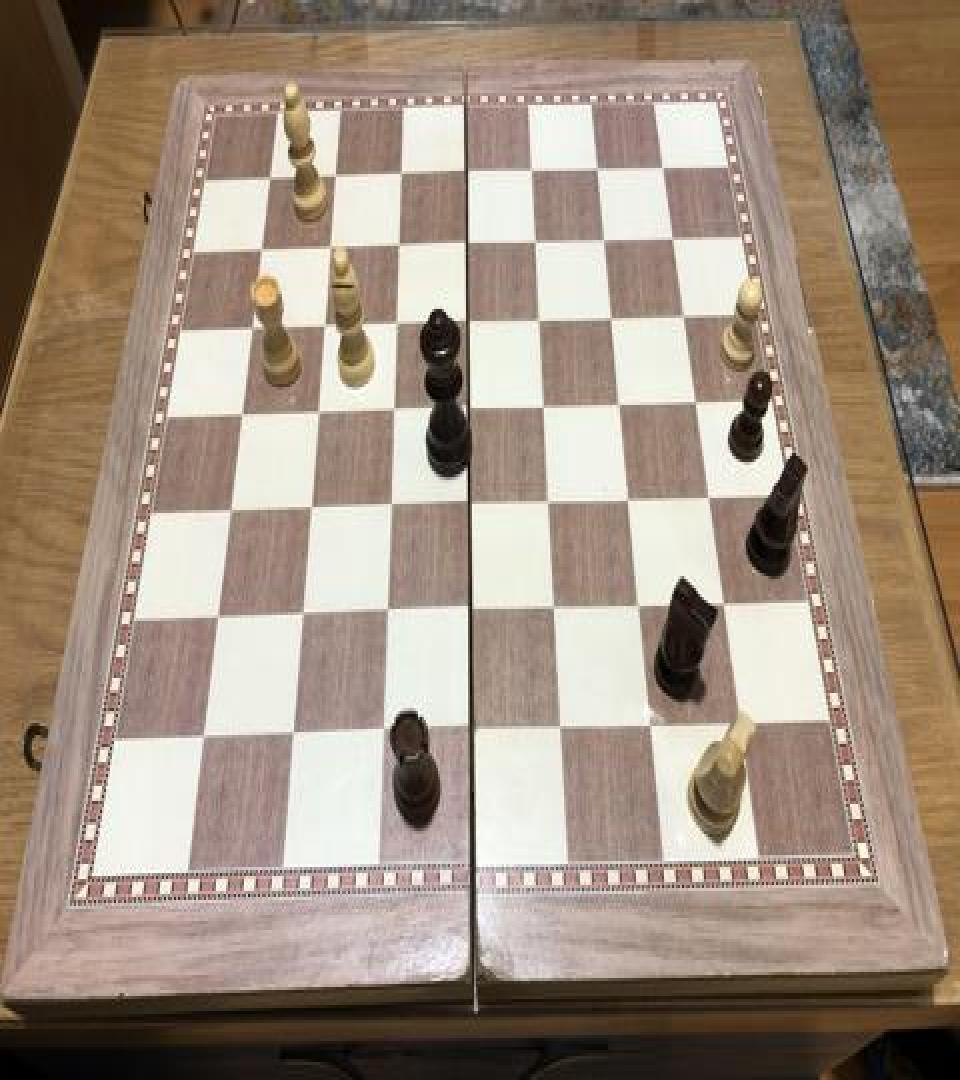xcorner: (543, 595, 567, 632), (289, 601, 313, 638), (639, 712, 663, 749), (369, 718, 393, 755), (656, 153, 680, 189), (589, 154, 613, 190), (523, 158, 547, 194), (456, 159, 480, 195), (390, 162, 414, 198), (324, 164, 348, 200), (258, 166, 282, 202), (665, 225, 689, 261), (595, 226, 619, 262), (526, 230, 550, 266), (457, 231, 481, 267), (387, 232, 411, 268), (319, 236, 343, 272), (250, 237, 274, 273), (676, 303, 700, 339), (603, 304, 627, 340), (530, 308, 554, 344), (457, 309, 481, 345), (385, 312, 409, 348), (312, 314, 336, 350), (240, 316, 264, 352), (687, 388, 711, 424), (610, 392, 634, 428), (534, 393, 558, 429), (457, 396, 481, 432), (381, 398, 405, 434), (305, 400, 329, 436), (230, 402, 254, 438), (700, 484, 724, 520), (619, 486, 643, 522), (538, 489, 562, 525), (458, 490, 482, 526), (378, 494, 402, 530), (298, 495, 322, 531), (218, 498, 242, 534), (714, 591, 738, 627), (628, 592, 652, 628), (458, 597, 482, 633), (374, 598, 398, 634), (205, 603, 229, 639), (730, 710, 754, 746), (549, 714, 573, 750), (459, 716, 483, 752), (280, 720, 304, 756), (191, 722, 215, 758)
